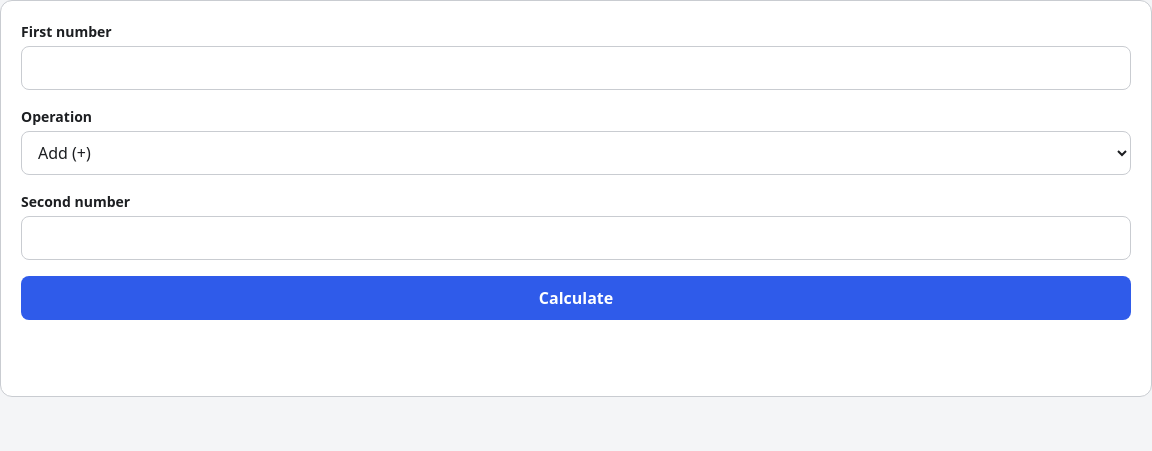
CalculatorForm › shows a message for other API errors
Type "1" into the field labelled "First number". click: point(576, 68)
box: [21,46,1131,90]
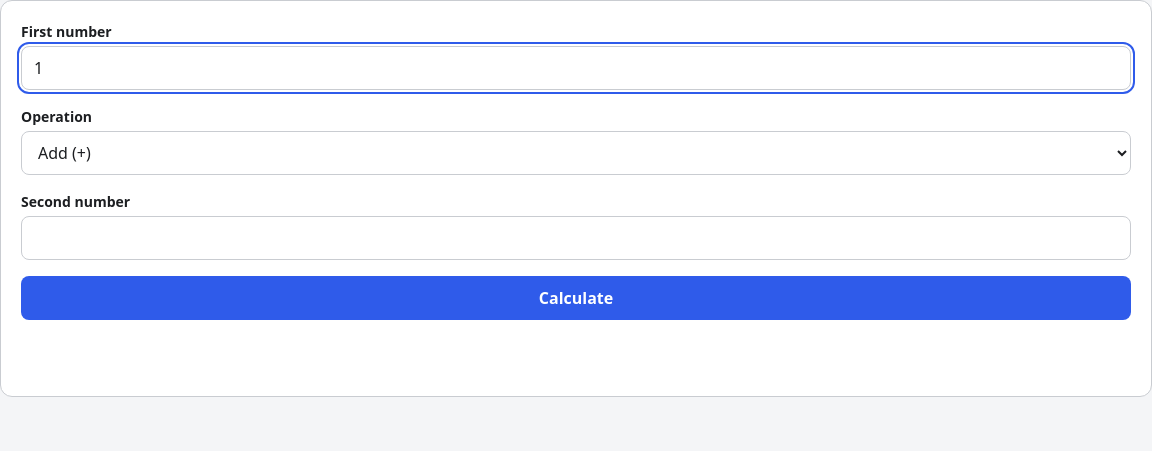
Select "Divide (÷)" in the dropdown labelled "Operation". click: point(576, 153)
box: [21,131,1131,175]
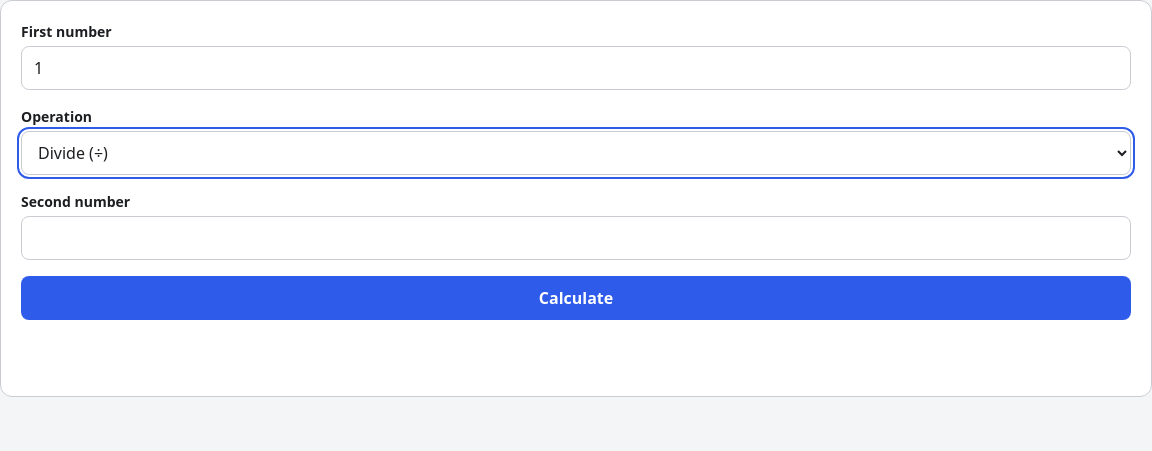
Type "0" into the field labelled "Second number". click: point(576, 238)
box: [21,216,1131,260]
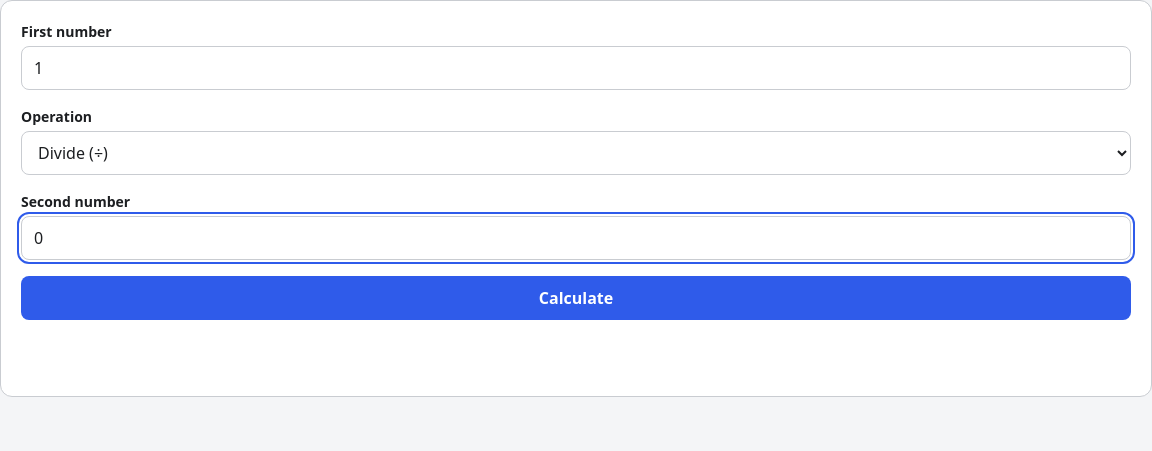
Click the button "Calculate". click: point(576, 298)
box: [21,276,1131,320]
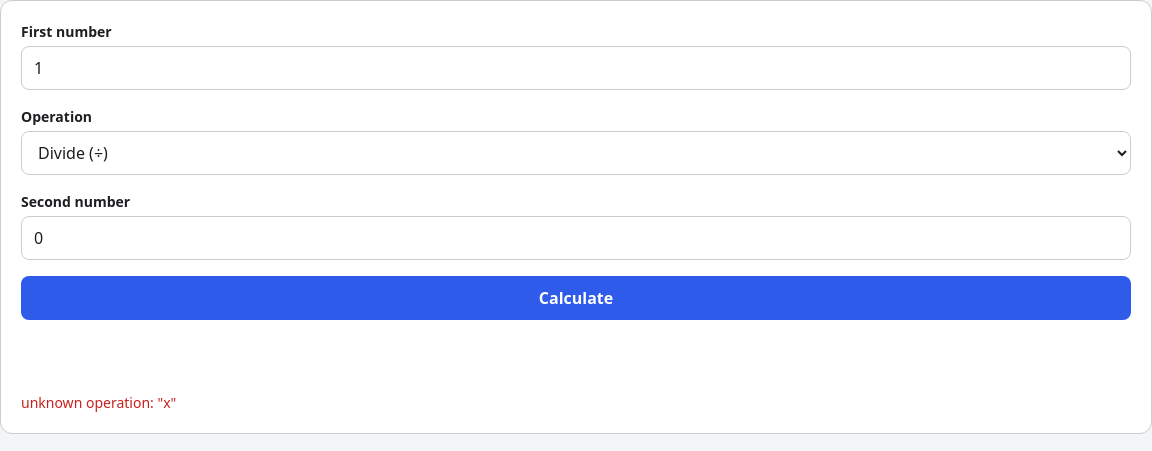
Expected: the message reads "unknown operation: \"x\"", [21,393,176,412]
